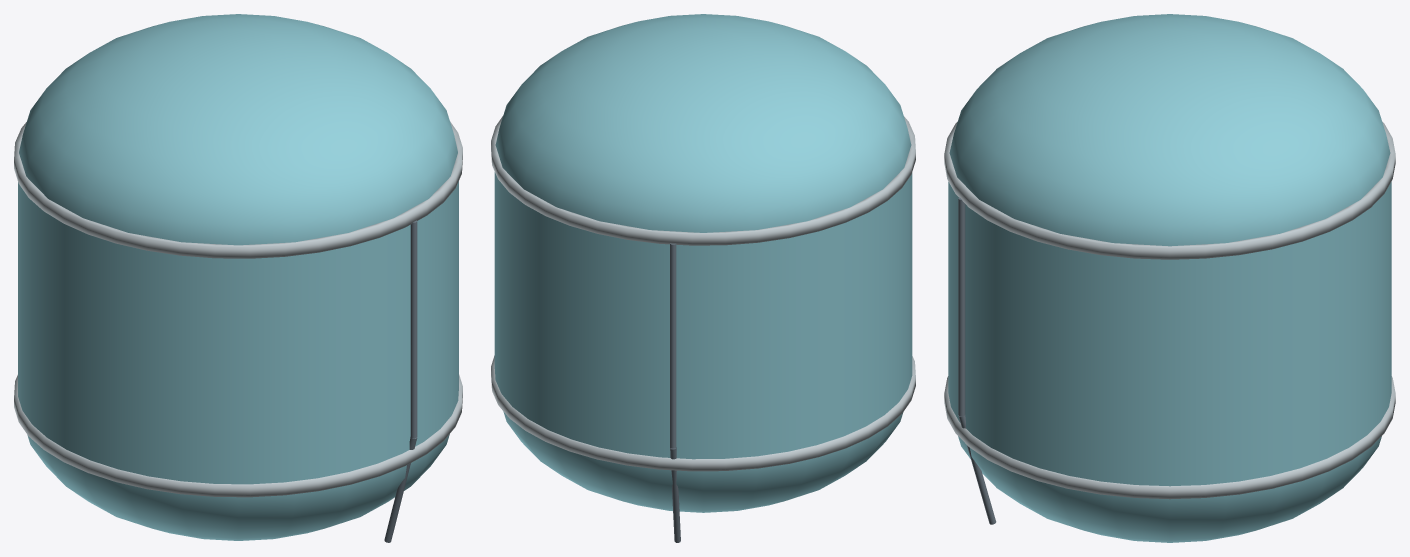
The model's file is titan_centaur_lh2_vessel.glb.
3 renders of one model, left to right at view 1: azimuth 30°, elevation 25°; view 2: azimuth 150°, elevation 25°; view 3: azimuth 270°, elevation 25°, orthographic. The views are drawn at different scales.
Parts seen in each view (by area): view 1: titan_centaur_lh2_vessel.mesh_Cutaway_liquid_hydrogen, titan_centaur_lh2_vessel.mesh_Satin_aluminum, titan_centaur_lh2_vessel.mesh_Machined_steel; view 2: titan_centaur_lh2_vessel.mesh_Cutaway_liquid_hydrogen, titan_centaur_lh2_vessel.mesh_Satin_aluminum, titan_centaur_lh2_vessel.mesh_Machined_steel; view 3: titan_centaur_lh2_vessel.mesh_Cutaway_liquid_hydrogen, titan_centaur_lh2_vessel.mesh_Satin_aluminum, titan_centaur_lh2_vessel.mesh_Machined_steel.
Part boxes in pixels (x1,y1,x2,y2): titan_centaur_lh2_vessel.mesh_Cutaway_liquid_hydrogen: (18,14,458,540); titan_centaur_lh2_vessel.mesh_Satin_aluminum: (14,121,462,497); titan_centaur_lh2_vessel.mesh_Machined_steel: (384,220,417,542); titan_centaur_lh2_vessel.mesh_Cutaway_liquid_hydrogen: (494,14,912,512); titan_centaur_lh2_vessel.mesh_Satin_aluminum: (491,116,915,471); titan_centaur_lh2_vessel.mesh_Machined_steel: (670,243,680,542); titan_centaur_lh2_vessel.mesh_Cutaway_liquid_hydrogen: (948,14,1391,542); titan_centaur_lh2_vessel.mesh_Satin_aluminum: (944,122,1395,499); titan_centaur_lh2_vessel.mesh_Machined_steel: (958,197,996,524).
Bounding box in the file's own units: 2.87 × 3.23 × 2.87.
